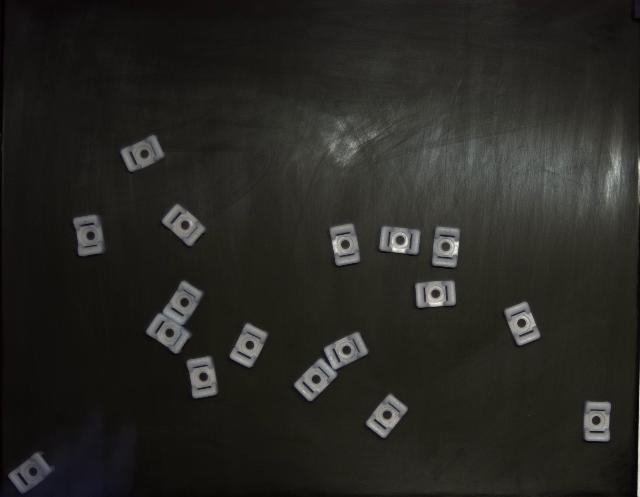first_side: (9, 452, 55, 494), (366, 394, 408, 439), (146, 313, 192, 354), (294, 359, 338, 401), (162, 205, 206, 246), (164, 281, 204, 325), (230, 324, 269, 369), (324, 332, 369, 370), (120, 135, 165, 172), (504, 302, 540, 346), (186, 356, 219, 399), (74, 215, 105, 256), (330, 224, 360, 266), (379, 226, 421, 255), (431, 226, 460, 268), (415, 281, 456, 309), (584, 401, 611, 442)
